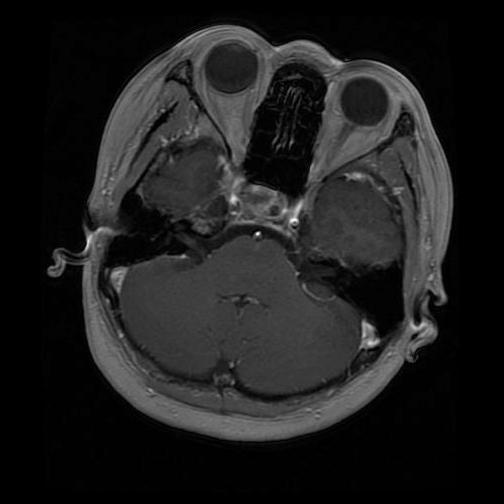Tumour-Pituitary: (222, 191, 309, 232)
